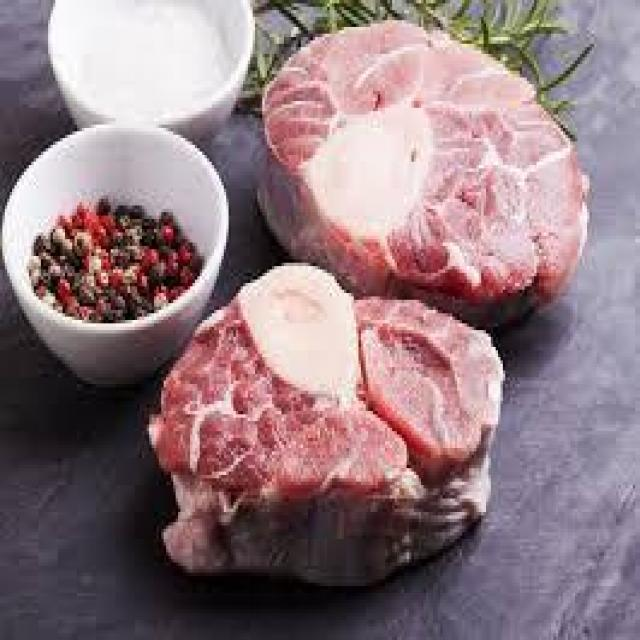beef: (162, 278, 503, 598)
